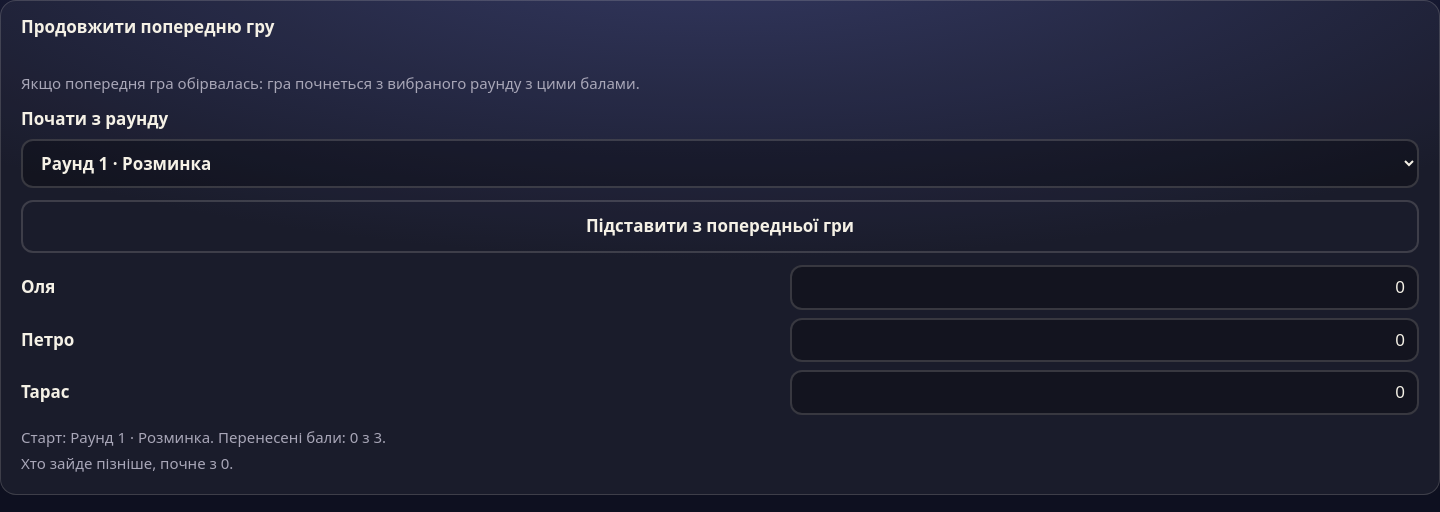
ResumePanel › changing the round and a field updates the draft and the summary
Select "Раунд 3 · Гори" in the dropdown labelled "Почати з раунду": (720, 164) [21, 139, 1419, 188]
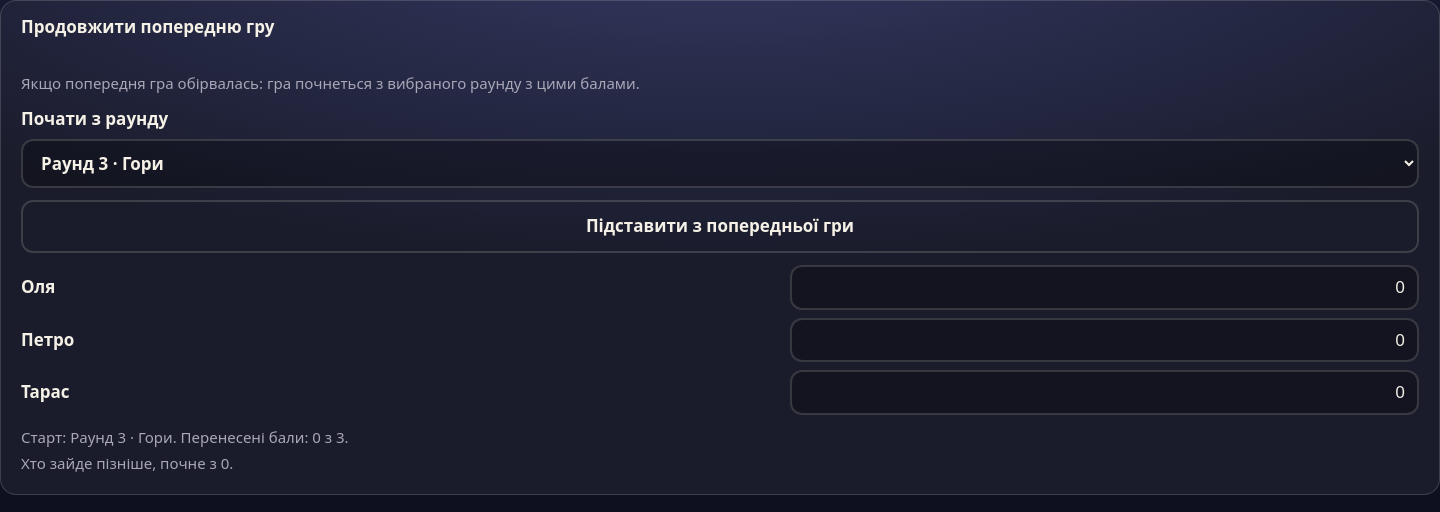
Replace the text in the field labelled "Петро" with "1200": (1104, 340) [790, 318, 1419, 362]
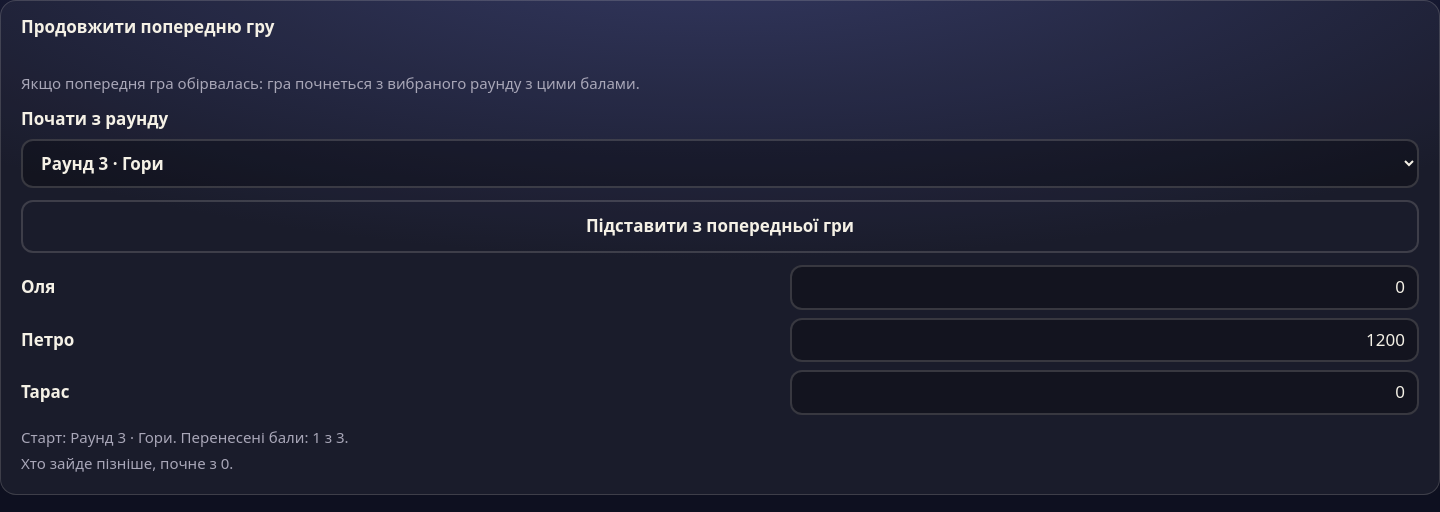
Expected: the text "Старт: Раунд 3 · Гори. Перенесені бали: 1 з 3." is shown, [21, 427, 349, 447]
